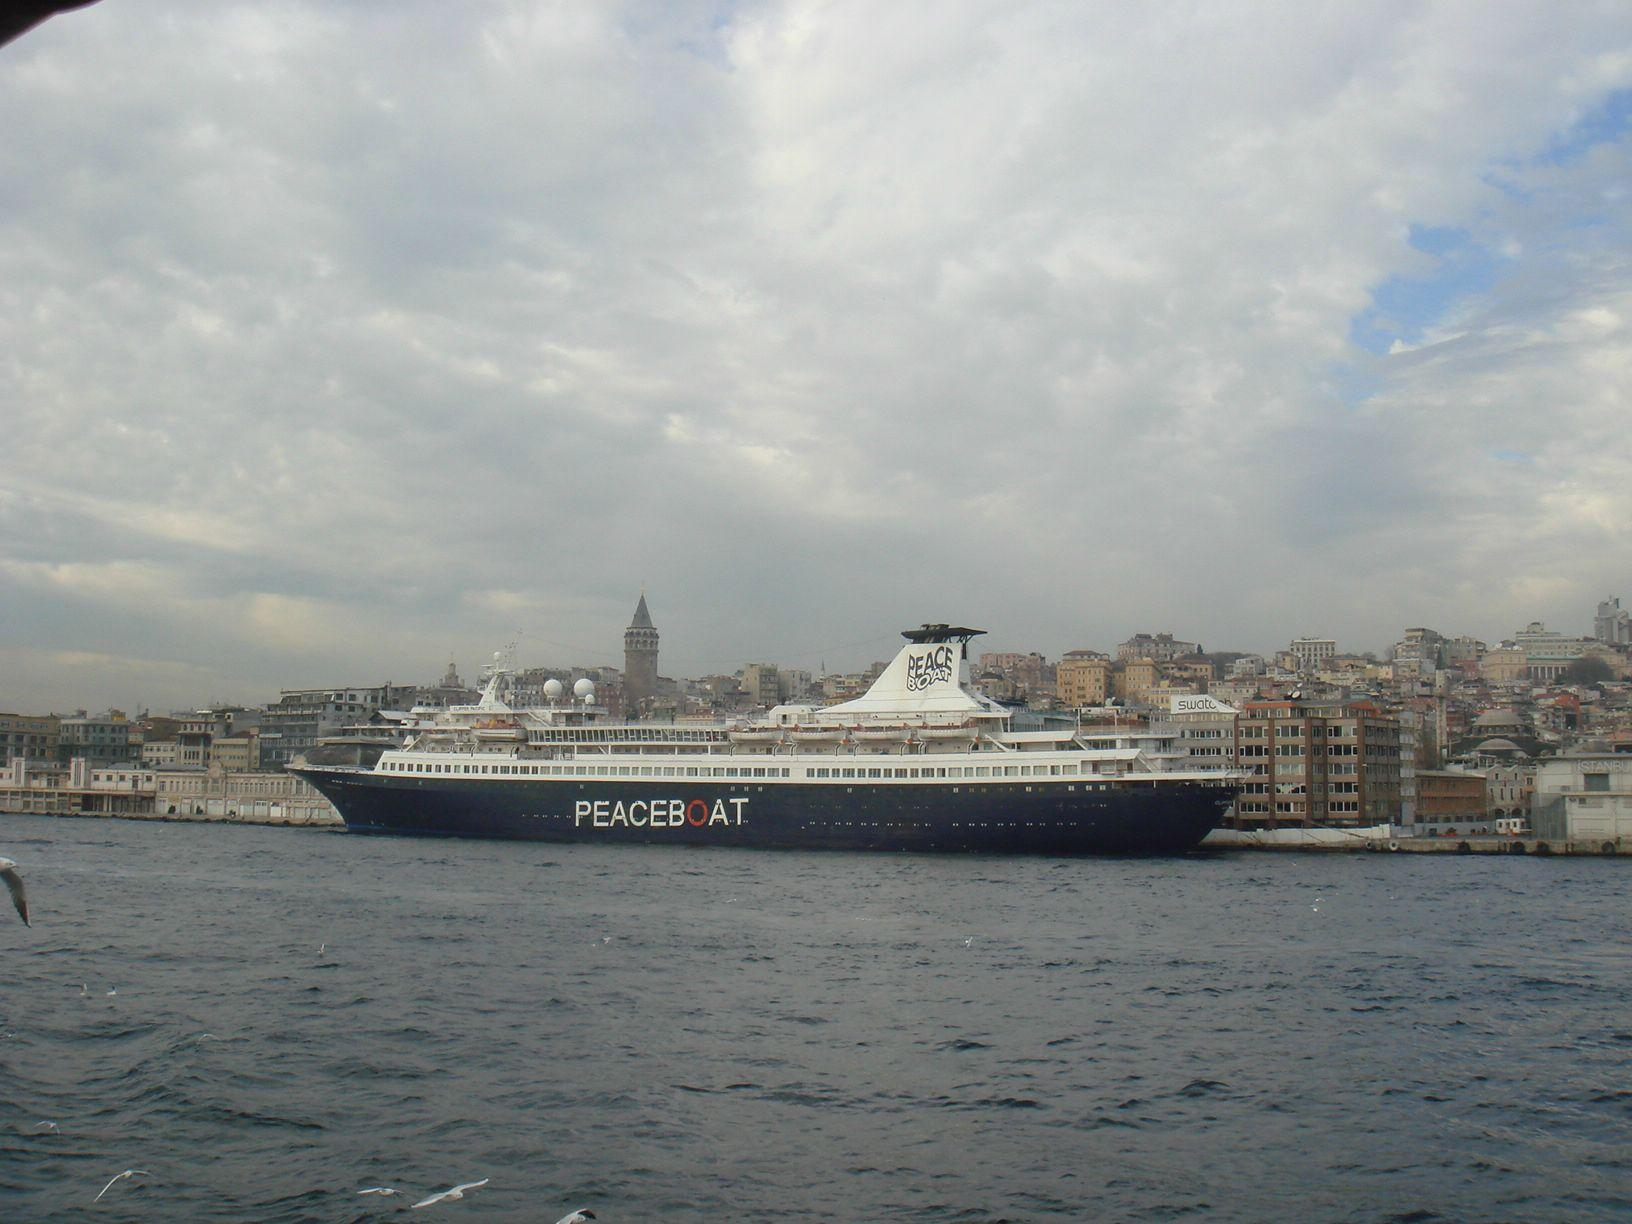youlun: (265, 593, 1291, 852)
